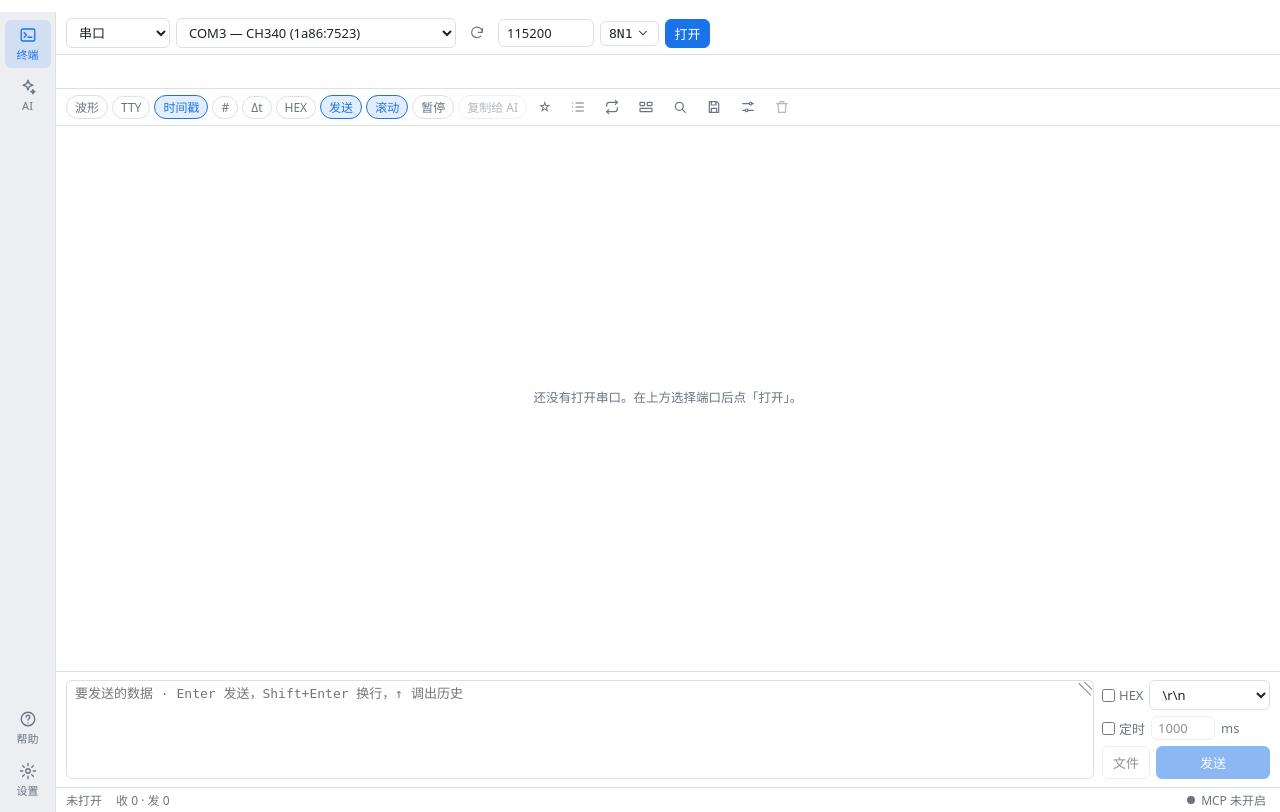
Test case: App › shows the help page in Chinese
Click the button "帮助": (28, 728) top-left (4, 704), bottom-right (50, 752)
(page scrolled)
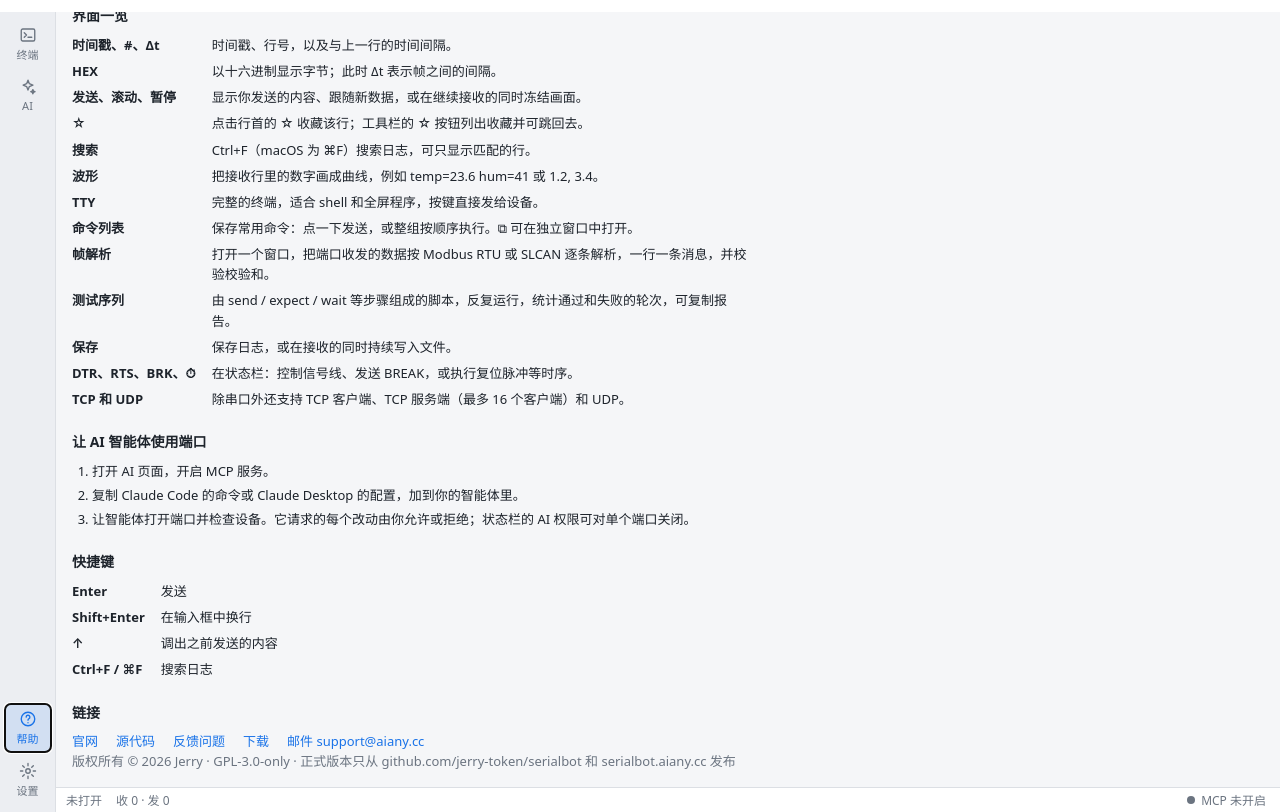
Check: the link "反馈问题" is shown, box top-left (173, 732), bottom-right (225, 750)
